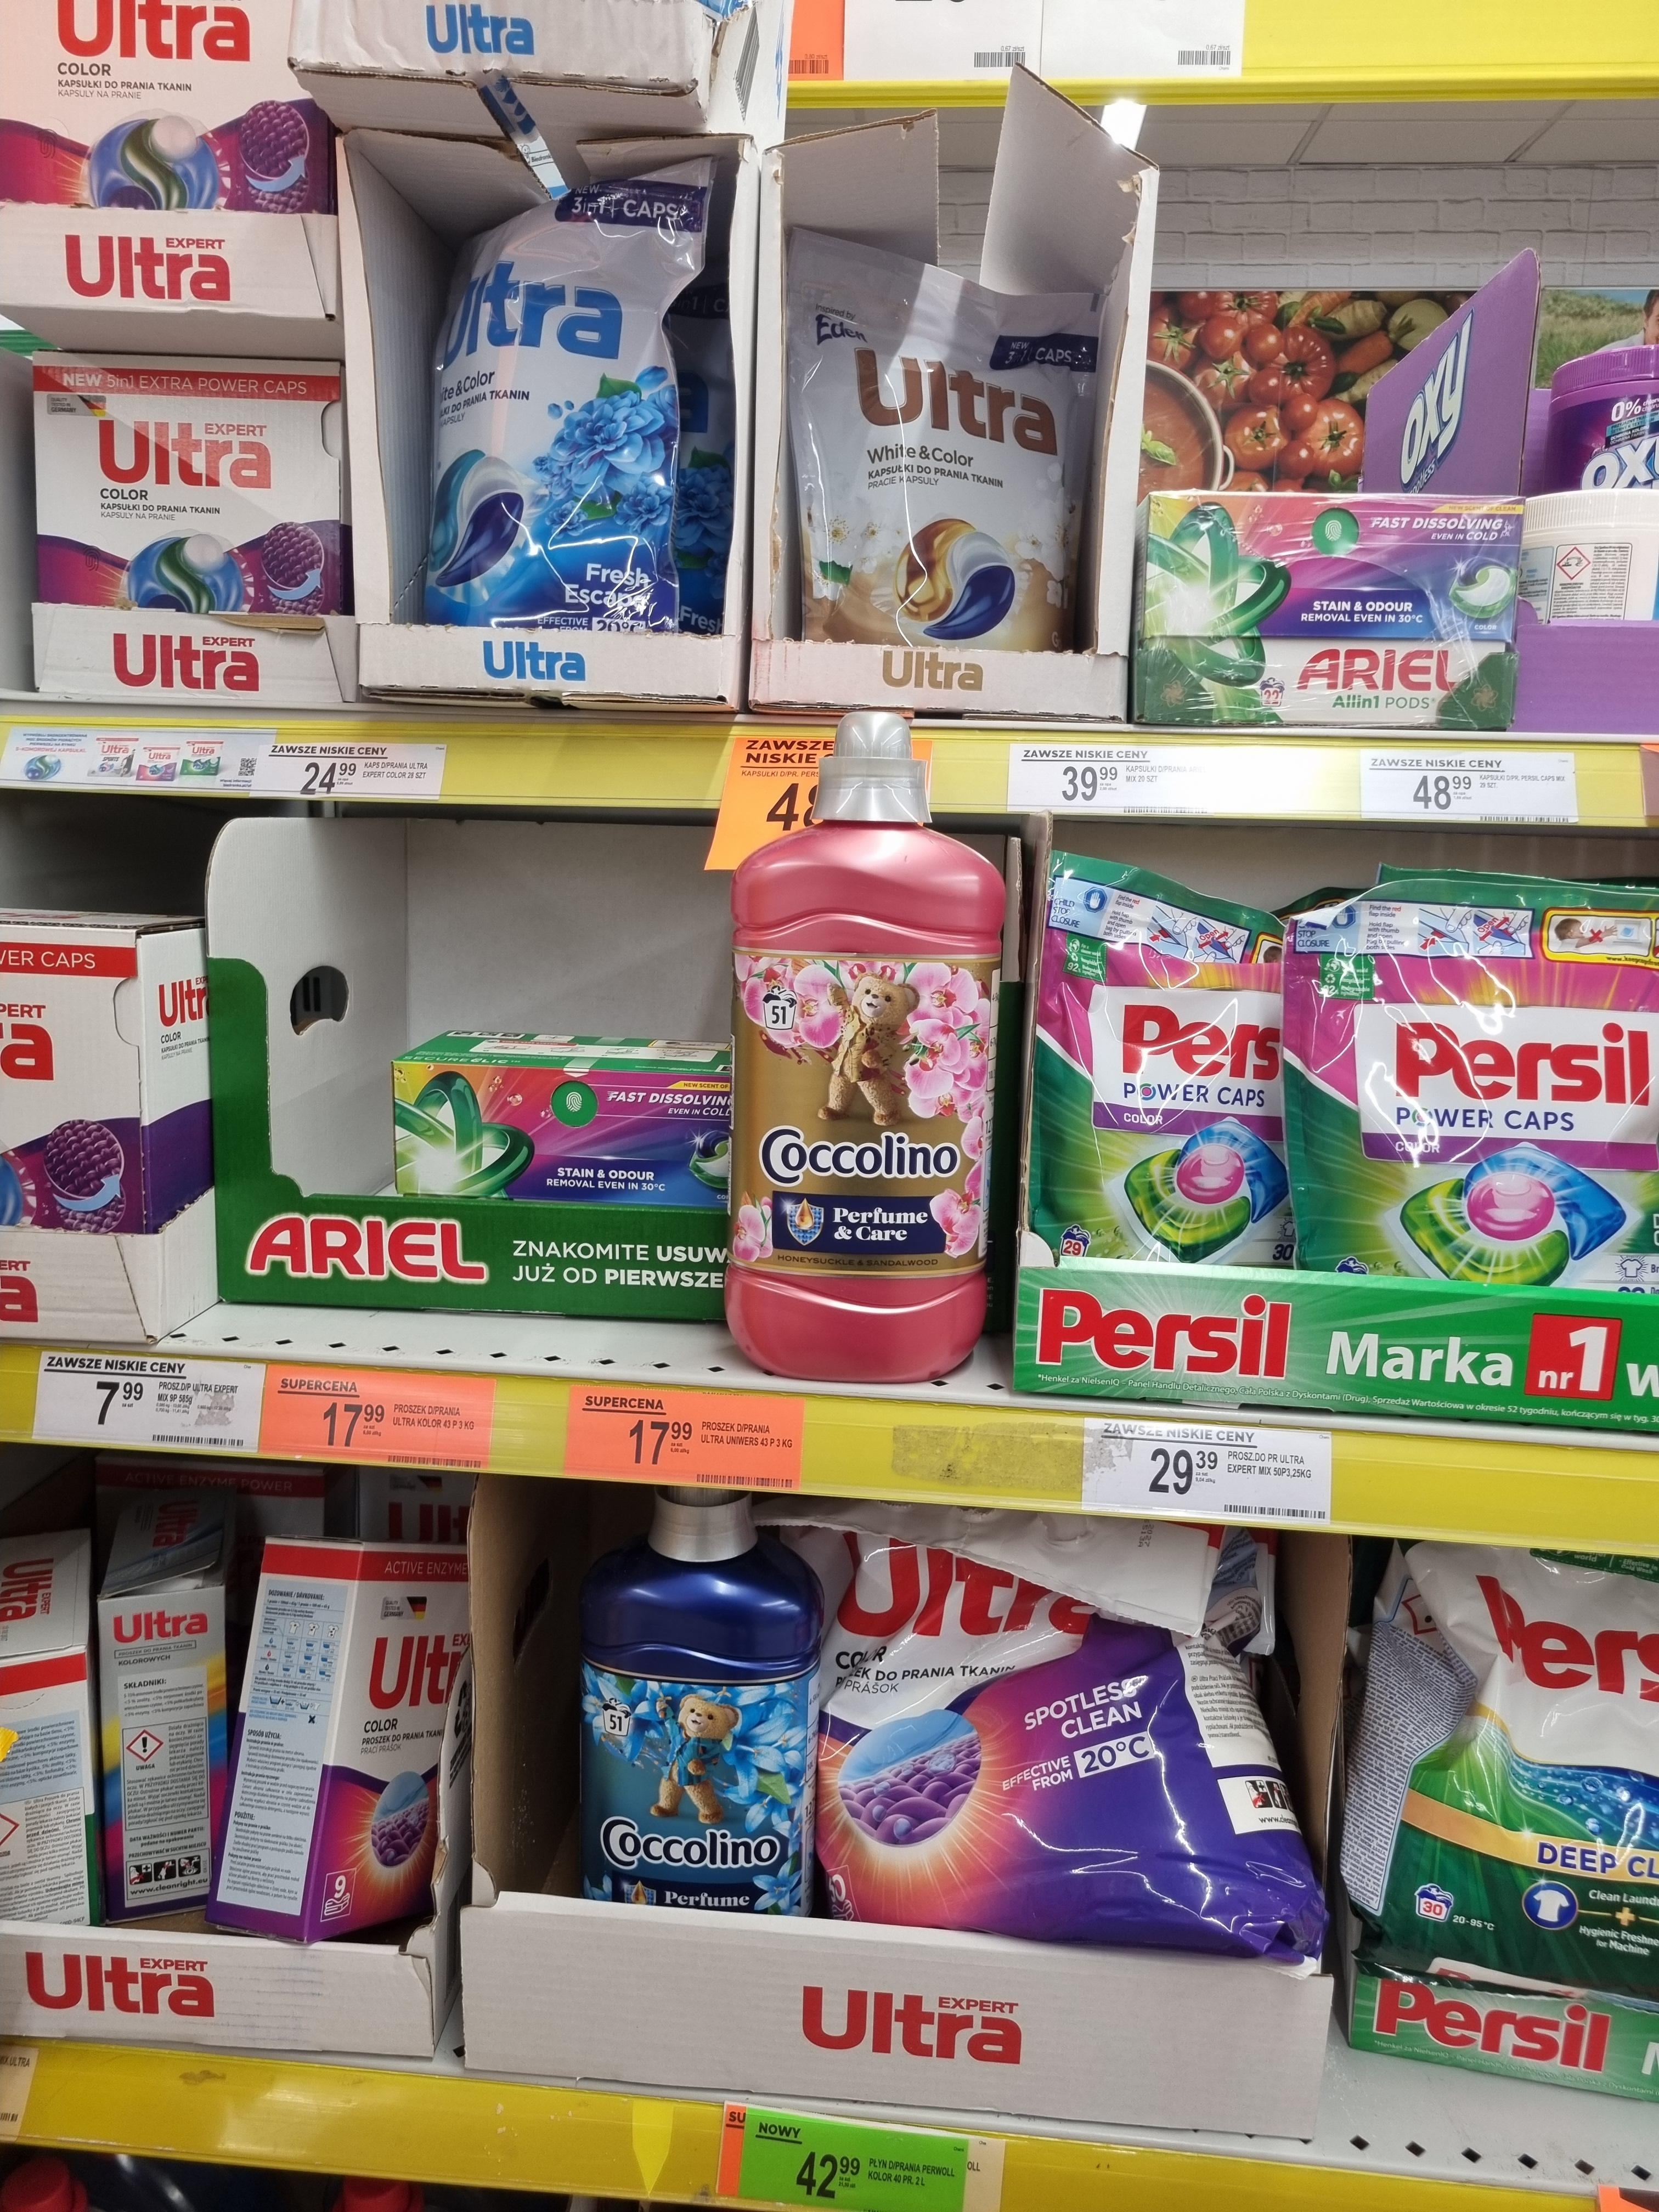cocolino: (721, 806, 1012, 1383)
